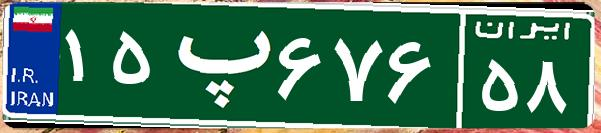1: (57, 26, 110, 107)
5: (475, 38, 525, 113), (110, 28, 158, 105)
6: (385, 28, 445, 110), (273, 28, 330, 110)
7: (330, 28, 385, 110)
8: (525, 38, 570, 115)
پ: (158, 15, 273, 115)
